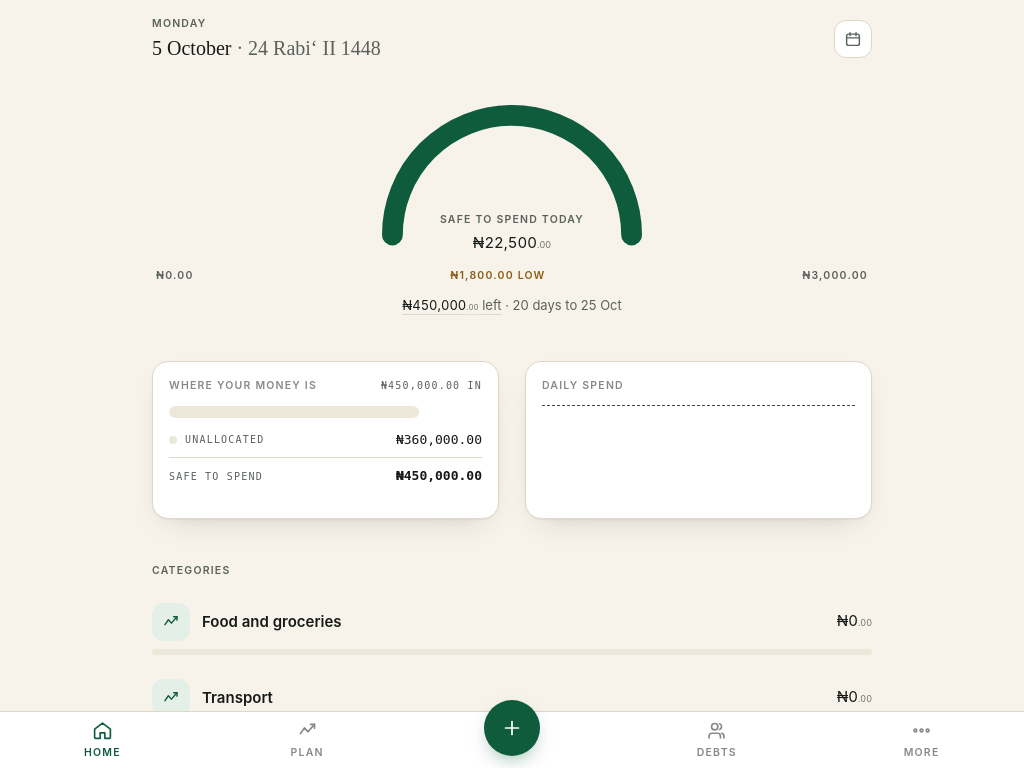
Test: the type decides what else is asked for › swaps categories for counterparties on a debt movement
This screenshot has width=1024, height=768.
Check: the heading "Safe to spend today" is shown, box [440,212,584,228]
Click the button named "Add a movement": (512, 728) [484,700,540,756]
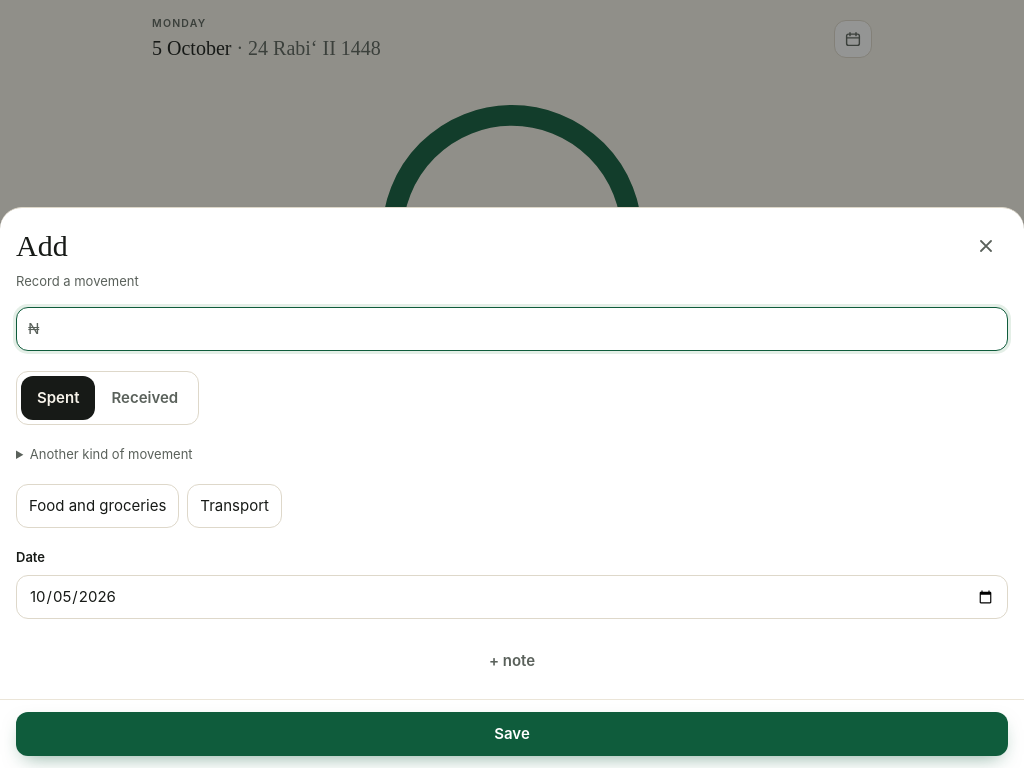
Click the heading "Another kind of movement": (111, 454) [30,446,193,462]
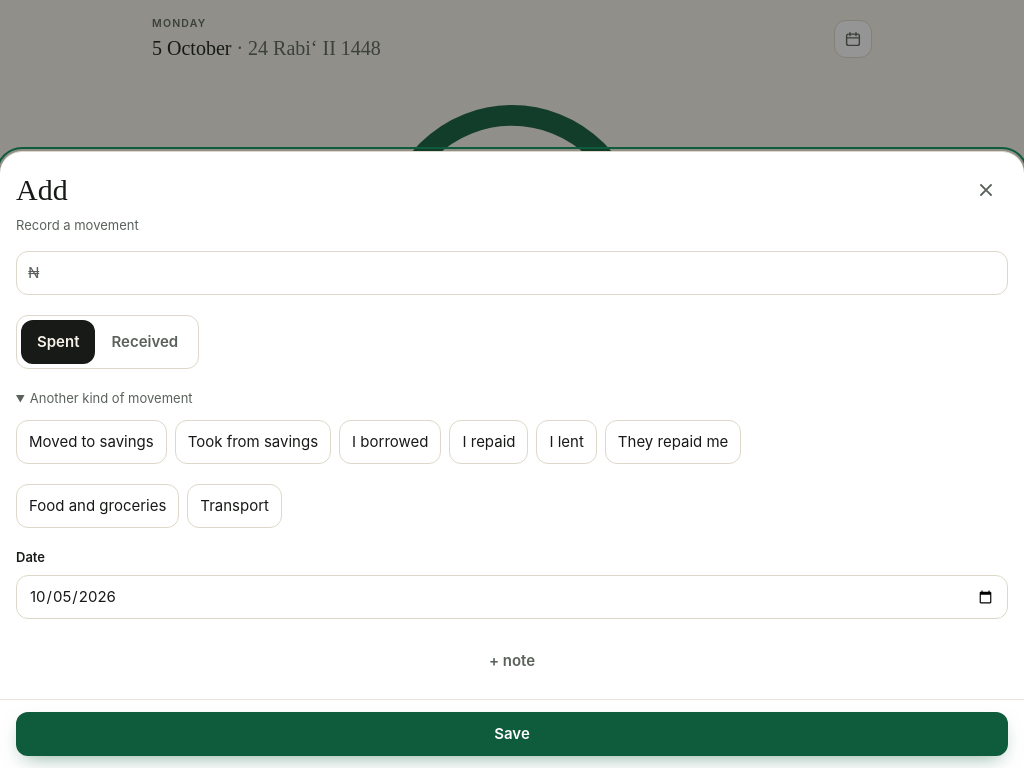
Click the radio button labelled "I repaid": (489, 442) [450,420,528,464]
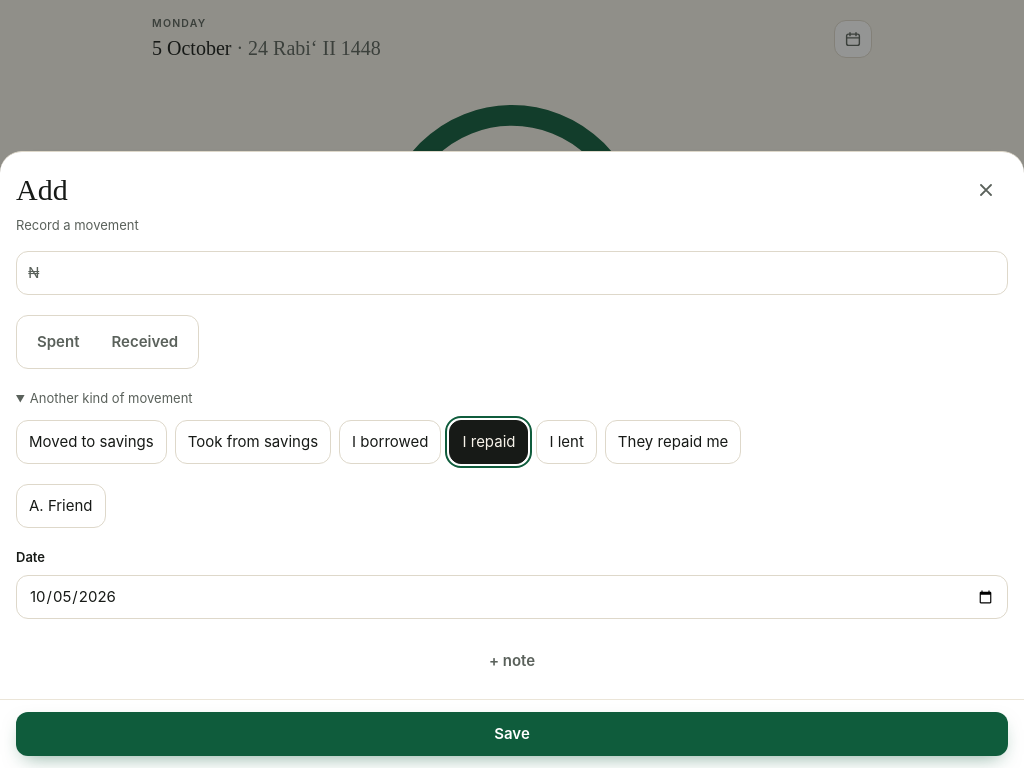
Check: the radio button labelled "A. Friend" is shown, box [16,484,106,528]
